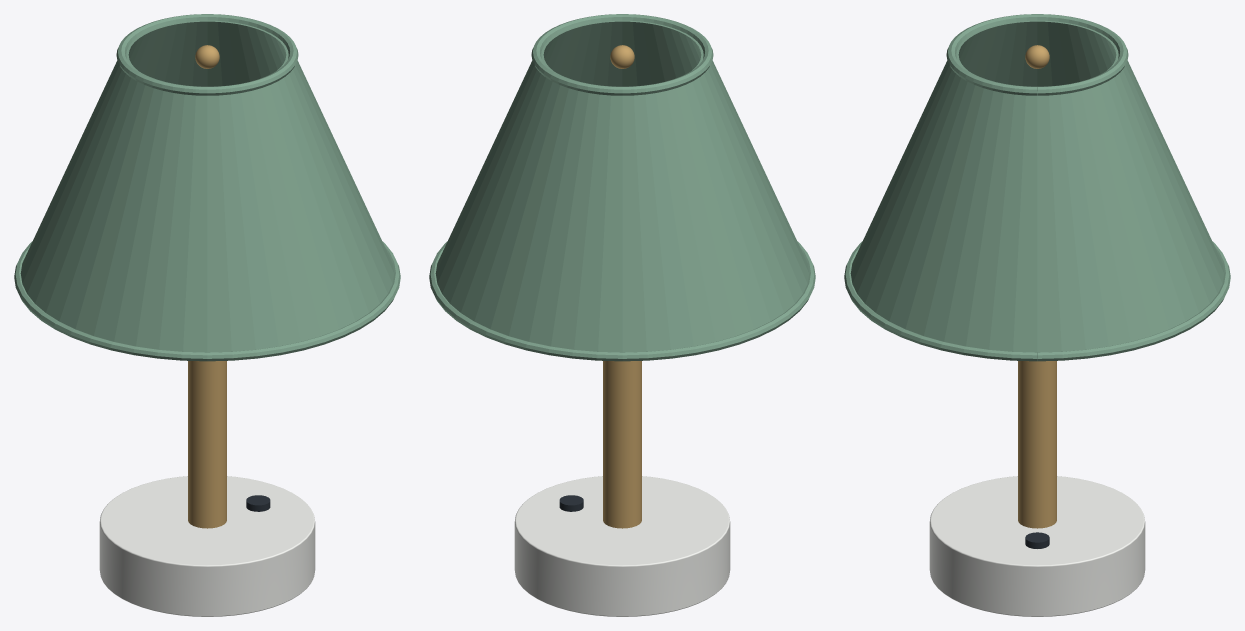
File: apartment-lamp-cone.glb
3 renders of one model, left to right at view 1: azimuth 30°, elevation 25°; view 2: azimuth 150°, elevation 25°; view 3: azimuth 270°, elevation 25°, orthographic.
Parts seen in each view (by area): view 1: catalog_surface_RealismUV; view 2: catalog_surface_RealismUV; view 3: catalog_surface_RealismUV.
Part boxes in pixels (left/top/right/bottom): catalog_surface_RealismUV: left=14, top=14, right=400, bottom=616; catalog_surface_RealismUV: left=429, top=14, right=815, bottom=616; catalog_surface_RealismUV: left=844, top=14, right=1230, bottom=616.
Size of the model in its own units: 0.16 by 0.24 by 0.16.
